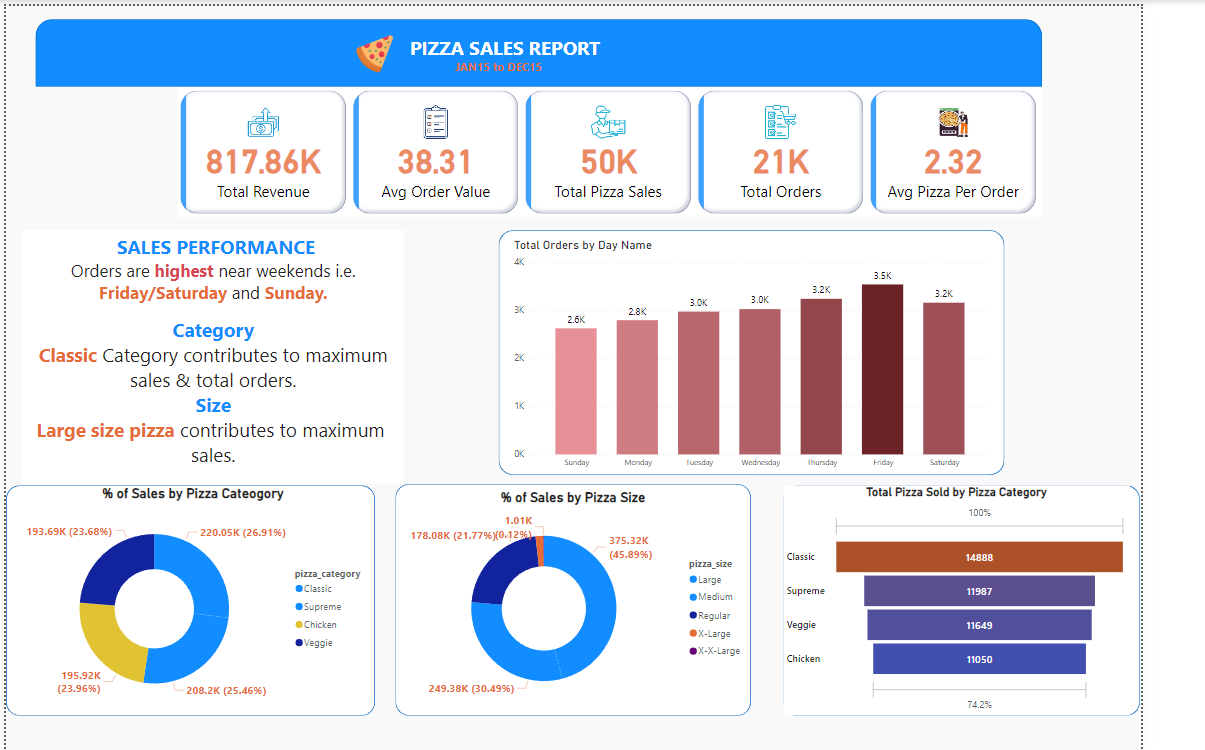

The page's visual inventory and layout, read from the dashboard file:
{"tool":"powerbi","page":{"name":"Page 1","canvas":[1600,1050],"ordinal":0},"visuals":[{"type":"cardVisual","fields":{"Data":["pizza_sales.Total Revenue","pizza_sales.Avg Order Value","pizza_sales.Total Pizza Sales","pizza_sales.Total Orders","pizza_sales.Avg Pizza Order"]},"box":[240.1,114,1219.5,183.1],"z":0},{"type":"shape","box":[41.5,19,1418.2,95],"z":1000},{"type":"textbox","box":[478.5,34.5,431.8,79.5],"z":2000},{"type":"image","box":[478.5,34.5,82.9,63.9],"z":4000},{"type":"shape","box":[694.1,315.9,712.8,345],"z":5000},{"type":"columnChart","fields":{"Category":["pizza_sales.Day Name"],"Y":["pizza_sales.Total Orders"]},"box":[710.7,326.3,681.6,334.6],"z":6000},{"type":"shape","box":[0,675.7,519.8,324.9],"z":6001},{"type":"shape","box":[548.2,672.9,500.7,326.6],"z":6002},{"type":"shape","box":[1095.9,675.7,502.4,324.9],"z":6003},{"type":"donutChart","title":"% of Sales by Pizza Cateogory","fields":{"Category":["pizza_sales.pizza_category"],"Y":["pizza_sales.Total Revenue"]},"box":[5.9,674.9,514.6,324.6],"z":6005},{"type":"donutChart","title":"% of Sales by Pizza Size","fields":{"Category":["pizza_sales.pizza_size"],"Y":["pizza_sales.Total Revenue"]},"box":[548.2,680.9,500.7,310.7],"z":6008},{"type":"funnel","title":"Total Pizza Sold by Pizza Category","fields":{"Y":["pizza_sales.Total Pizza Sales"],"Category":["pizza_sales.pizza_category"]},"box":[1095.2,675.4,488.4,324.2],"z":6009},{"type":"textbox","box":[22.9,315.9,538.2,357.4],"z":6015}]}

Visuals, with their boxes on the page's 1600x1050 design canvas (x1, y1, x2, y2). These are canvas units, not pixel positions in the 1205x750 screenshot, which may show the page scaled, cropped or inside an application window:
cardVisual - pizza_sales.Total Revenue x pizza_sales.Avg Order Value: locate(240, 114, 1460, 297)
shape: locate(42, 19, 1460, 114)
textbox: locate(478, 34, 910, 114)
image: locate(478, 34, 561, 98)
shape: locate(694, 316, 1407, 661)
columnChart - pizza_sales.Day Name x pizza_sales.Total Orders: locate(711, 326, 1392, 661)
shape: locate(0, 676, 520, 1001)
shape: locate(548, 673, 1049, 1000)
shape: locate(1096, 676, 1598, 1001)
"% of Sales by Pizza Cateogory" donutChart: locate(6, 675, 520, 1000)
"% of Sales by Pizza Size" donutChart: locate(548, 681, 1049, 992)
"Total Pizza Sold by Pizza Category" funnel: locate(1095, 675, 1584, 1000)
textbox: locate(23, 316, 561, 673)
